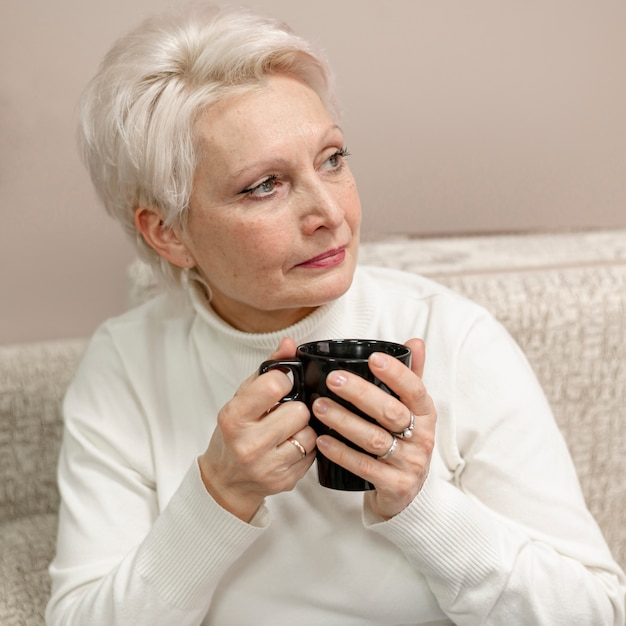young: (76, 10, 397, 312)
